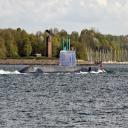submarine: (19, 35, 107, 74)
